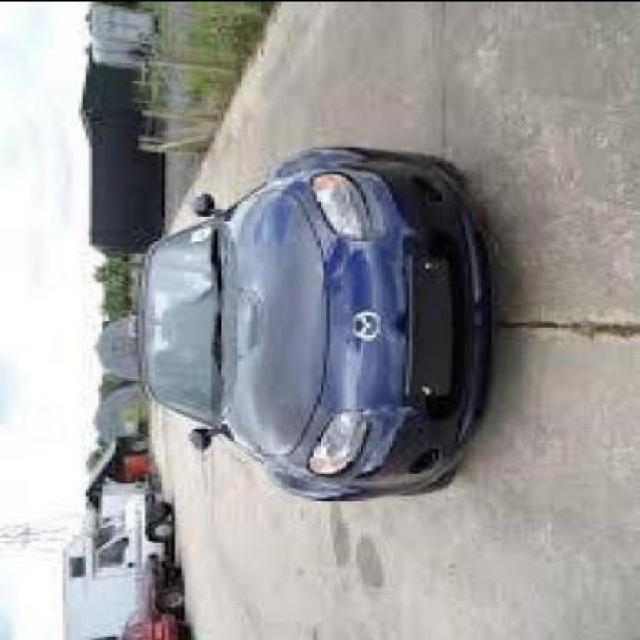damage: (346, 397, 414, 485)
